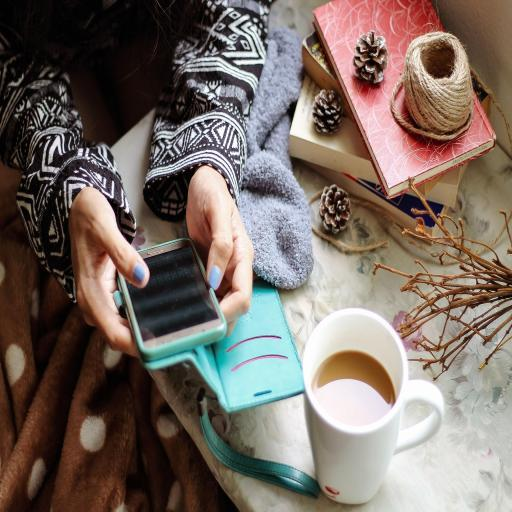phone: (120, 240, 244, 386)
